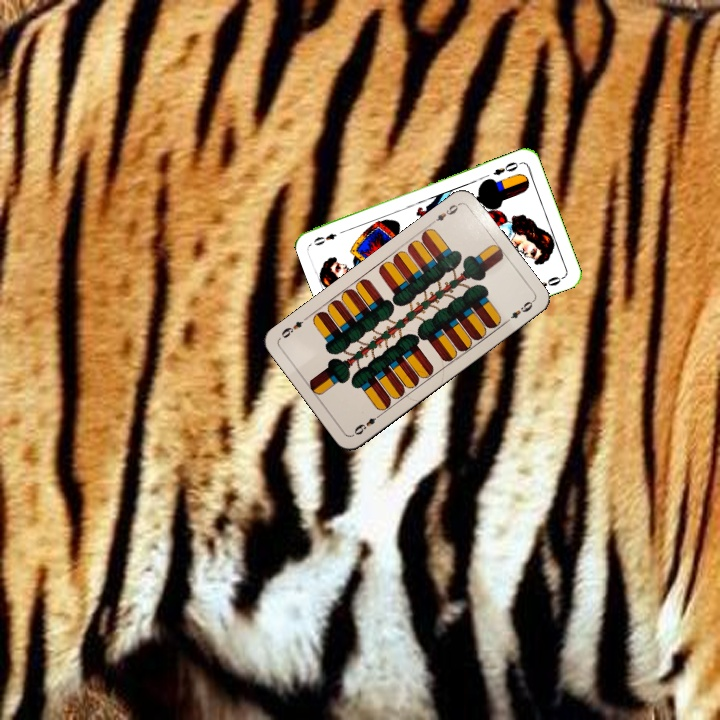E9: (427, 199, 462, 227), (350, 410, 384, 437)
EO: (489, 158, 524, 178)
